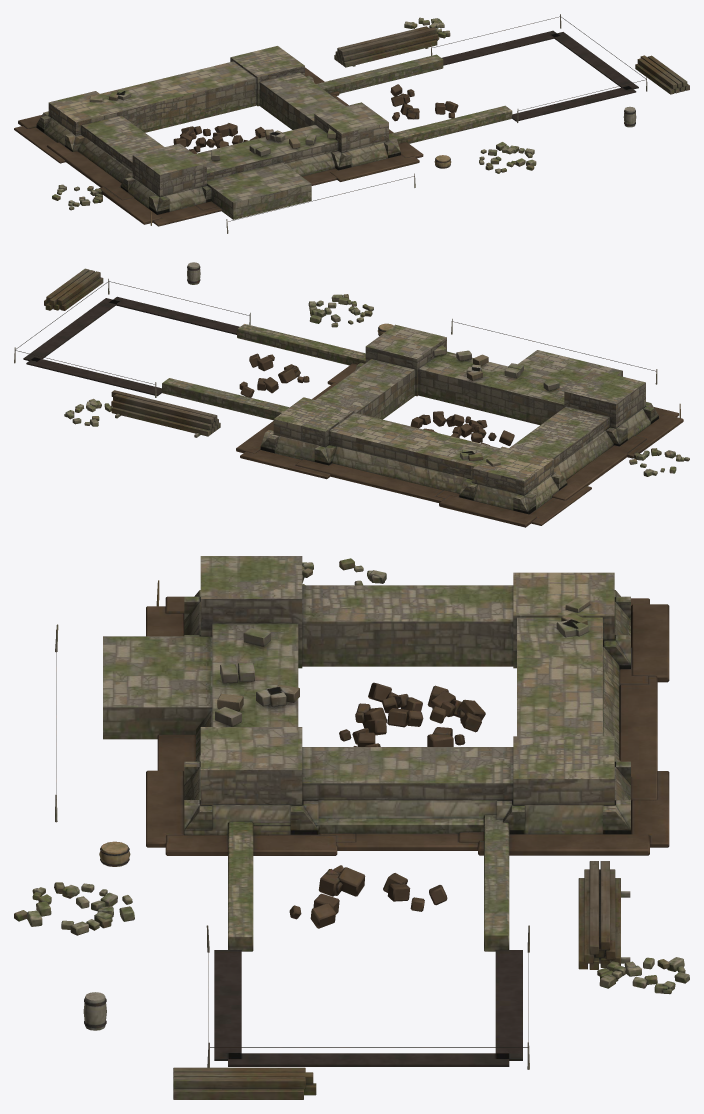
Rendered from town_hall_build1.glb.
The picture shows the model from 3 angles, top to bottom: view 1: azimuth 30°, elevation 25°; view 2: azimuth 150°, elevation 25°; view 3: azimuth 270°, elevation 25°; orthographic projection. The views are drawn at different scales.
Parts seen in each view (by area): view 1: town_hall_build1_LOD0; view 2: town_hall_build1_LOD0; view 3: town_hall_build1_LOD0.
Part boxes in pixels (x1,y1,x2,y2): town_hall_build1_LOD0: [14, 14, 689, 233]; town_hall_build1_LOD0: [14, 262, 689, 527]; town_hall_build1_LOD0: [14, 556, 689, 1099].
Size of what is drawn, in the model's own units: 32.46 by 2.18 by 17.31.
1 material, 1 textured.
